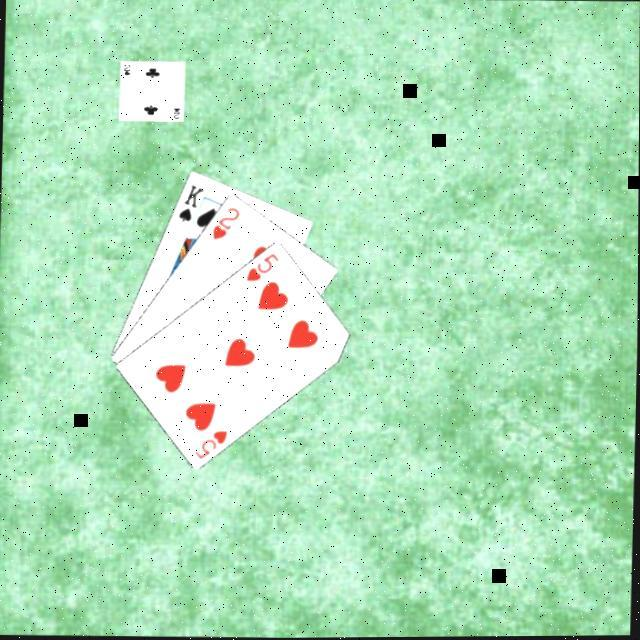2H: (207, 202, 242, 242)
5H: (191, 424, 230, 461), (242, 248, 281, 283)
KS: (174, 179, 205, 224)
